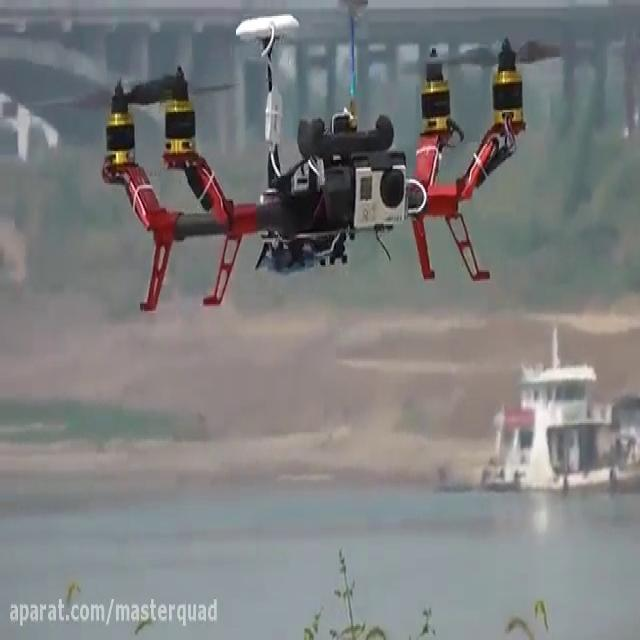drone: (33, 0, 591, 315)
